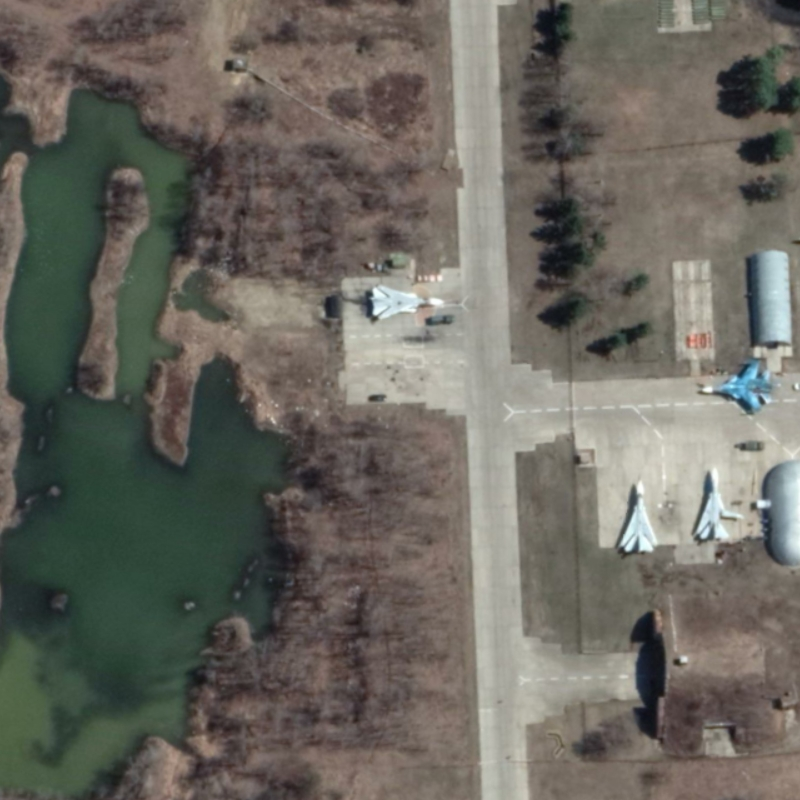A19: (699, 357, 783, 416)
A20: (692, 465, 746, 542), (616, 478, 661, 555), (367, 283, 447, 322)
